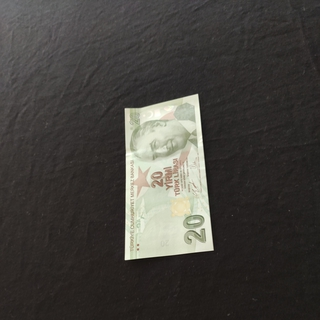20TLFront: (123, 93, 213, 260)
